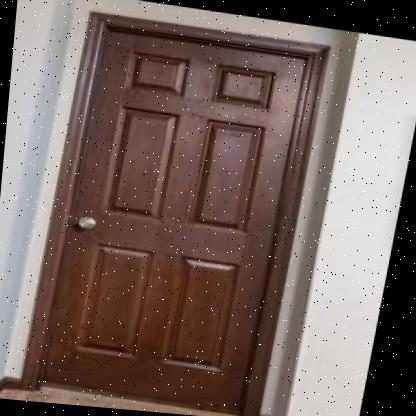door: (38, 10, 315, 416)
